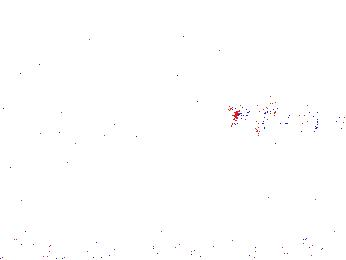flame jellyfish: (281, 65, 330, 134), (228, 99, 298, 146), (148, 166, 208, 220)
